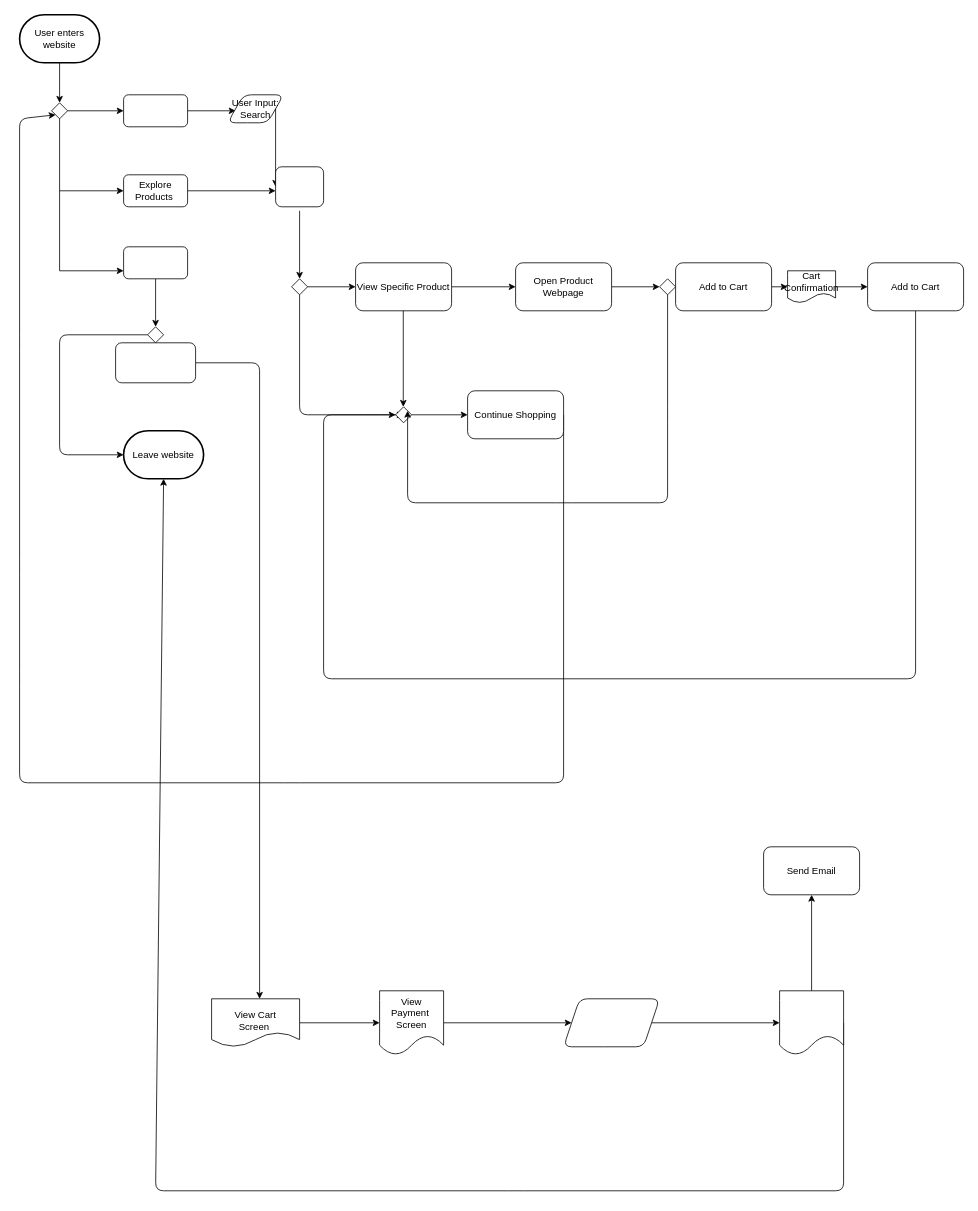
This 978x1211 diagram has some shape labels left out. The box of each missing label's shape, as (x1, y1, x2, y2) in pixels:
Checkout: (115, 342, 196, 383)
Do not continue shopping: (123, 246, 188, 279)
Examine Products: (275, 166, 324, 207)
Order Confirmation Screen: (779, 990, 844, 1055)
Payment input: (563, 998, 660, 1047)
Search for Product: (123, 94, 188, 127)
